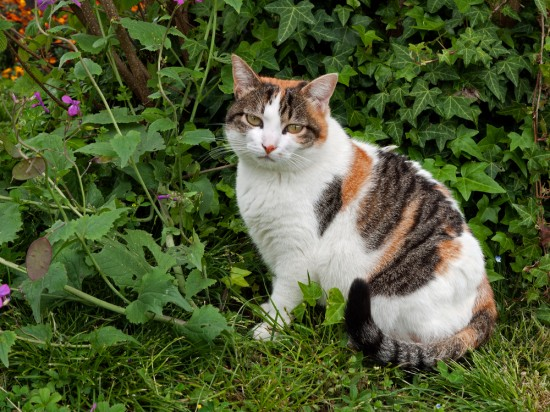cat: (223, 53, 499, 369)
